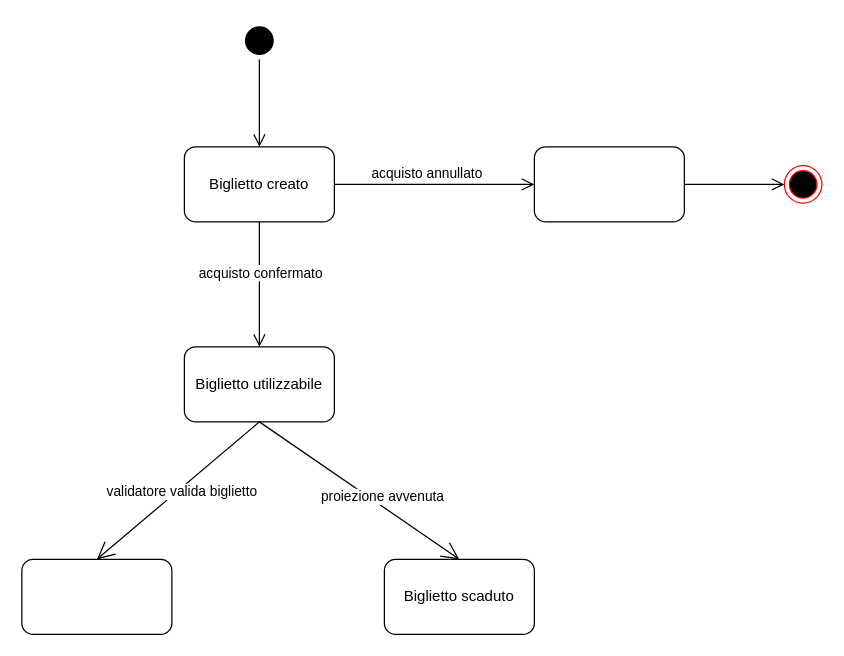
Image size: 844x656. Some labels were removed from this diagram. The centre of each missing label's shape, as x and y in pixels:
"Biglietto rimosso" goes at [608,184].
"Biglietto validato" goes at [96,596].
